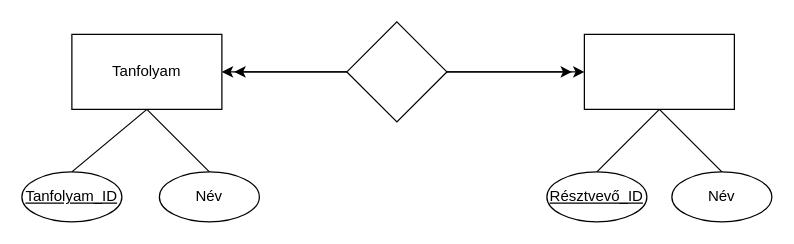
Some shapes in this 794 by 244 pixel diagram are drawn without their labels. Each missing label, with the box of its shape:
Résztvevő: (583, 33, 734, 109)
T-R: (346, 21, 447, 122)
